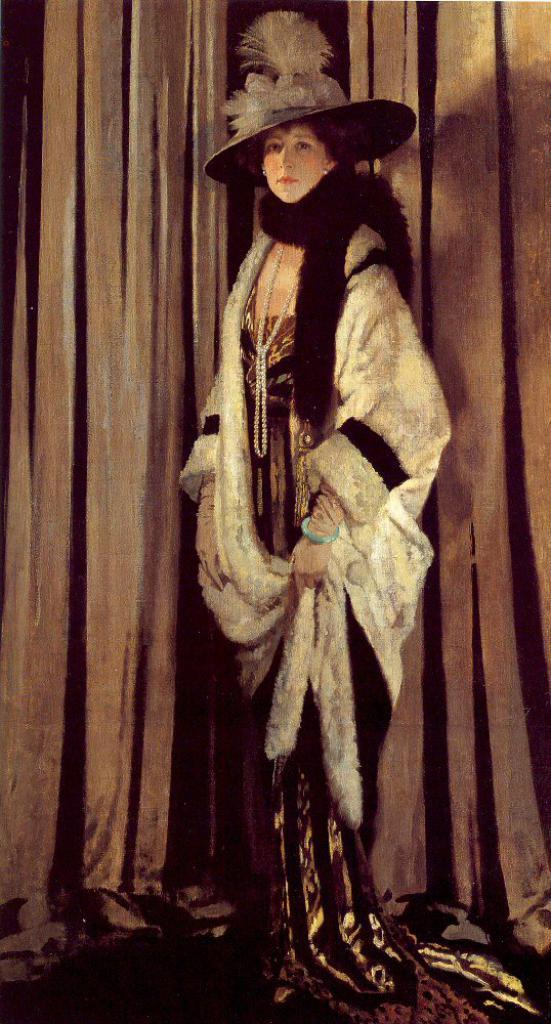Hat: (206, 12, 424, 192)
